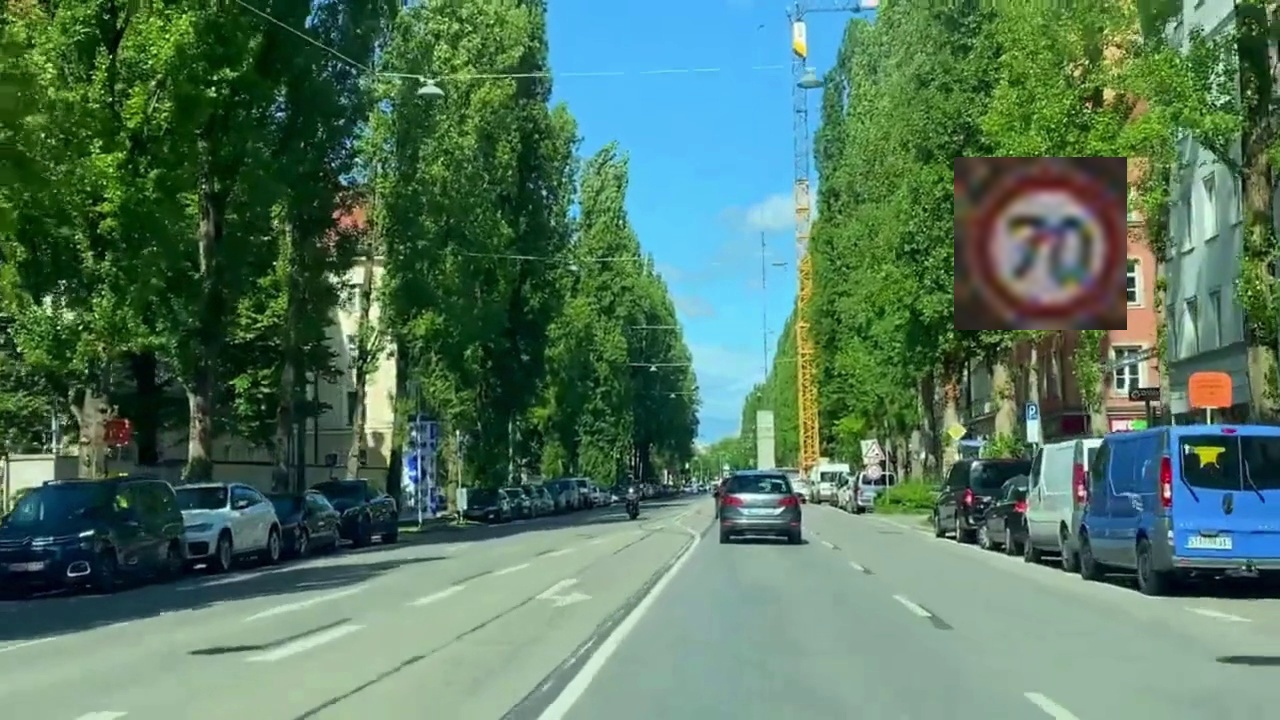Speed 70: (954, 157, 1127, 330)
